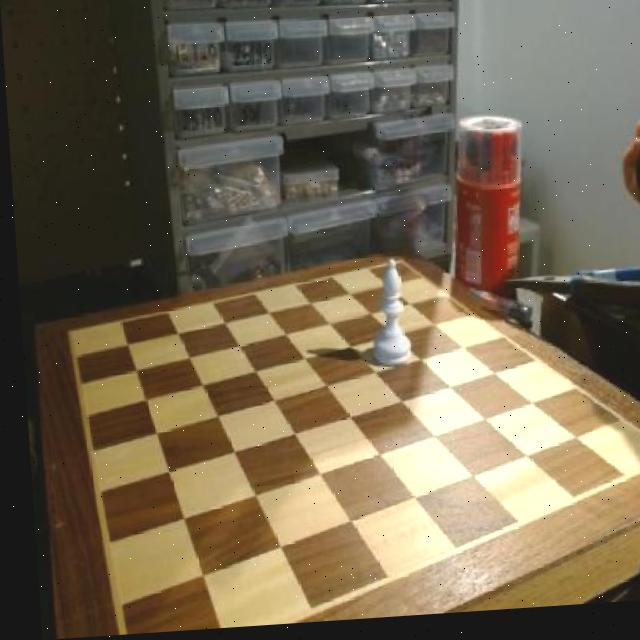black-rook: (362, 256, 411, 377)
